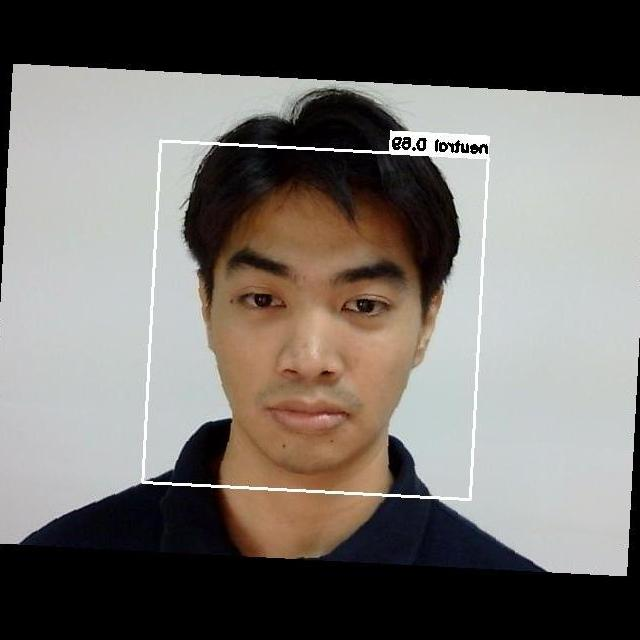Fear: (212, 228, 426, 458)
